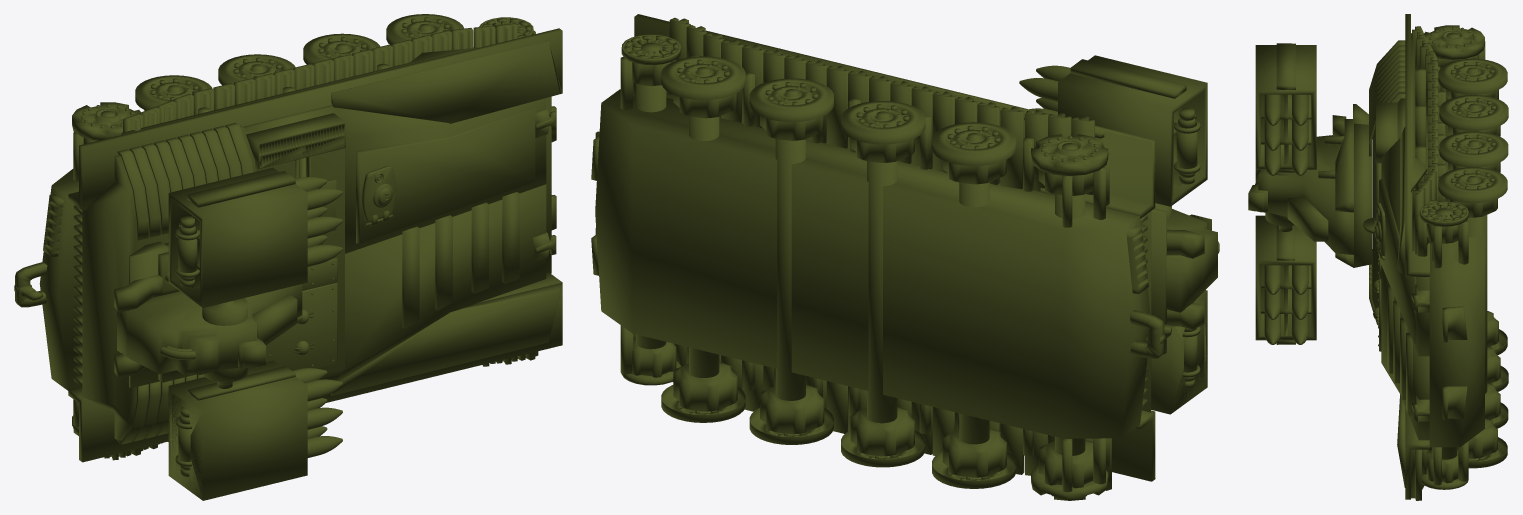
Rendered from wolverine_notrack.obj.
3 views of the same model, side by side, from view 1: azimuth 30°, elevation 25°; view 2: azimuth 150°, elevation 25°; view 3: azimuth 270°, elevation 25° (orthographic). The views are drawn at different scales.
Size of the model in its own units: 4.73 by 2.85 by 2.26.
